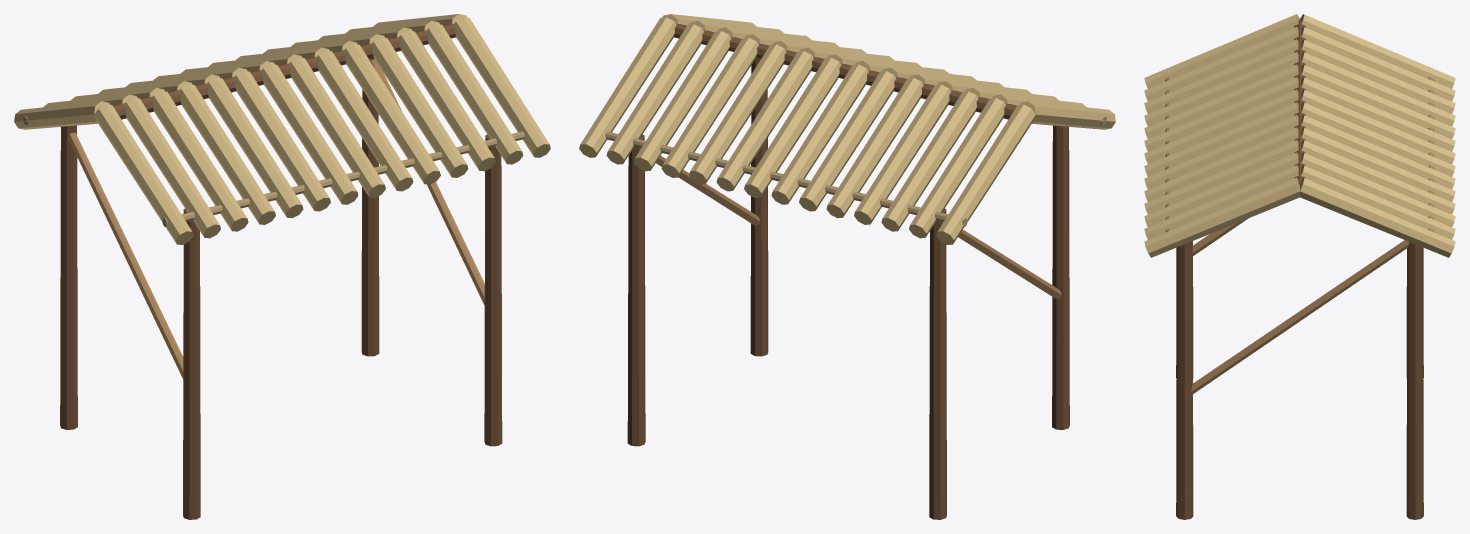
The picture shows the model from 3 angles, left to right: view 1: azimuth 30°, elevation 25°; view 2: azimuth 150°, elevation 25°; view 3: azimuth 270°, elevation 25°; orthographic projection. The views are drawn at different scales.
Visible parts, largest first — view 1: WW-063 Open-sided timber stack rain cap batched; view 2: WW-063 Open-sided timber stack rain cap batched; view 3: WW-063 Open-sided timber stack rain cap batched.
Boxes of the visible parts, x1,y1,x2,y2 form: WW-063 Open-sided timber stack rain cap batched: (14,14,550,519); WW-063 Open-sided timber stack rain cap batched: (579,14,1115,519); WW-063 Open-sided timber stack rain cap batched: (1144,14,1455,519).
Size of the model in its own units: 2.12 by 2.02 by 1.62.
